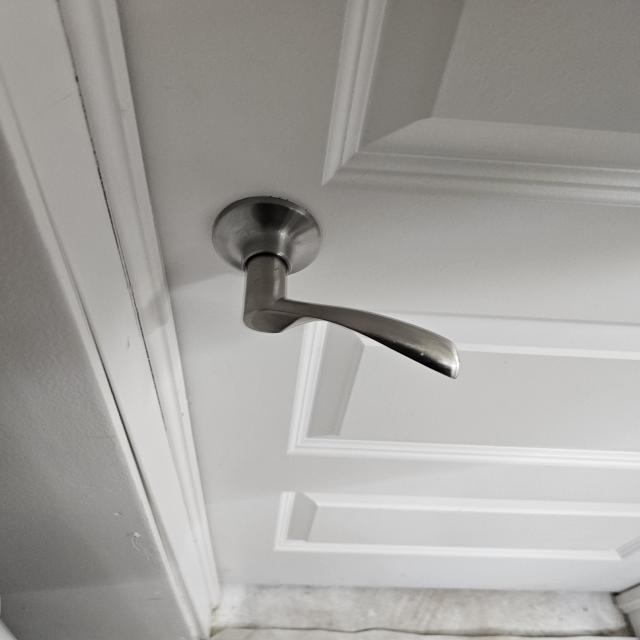door-handle: (212, 196, 459, 378)
